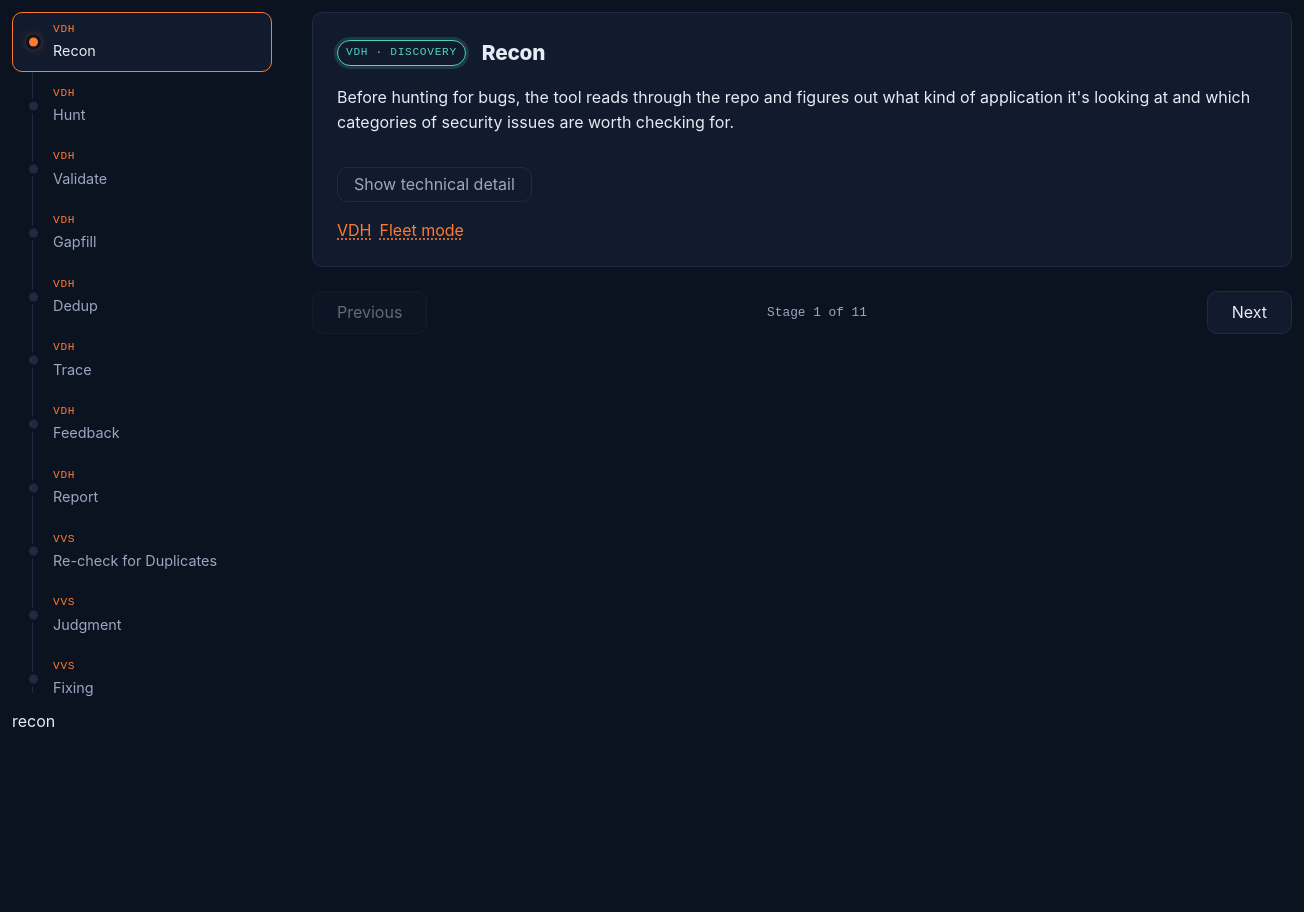
Walkthrough › keeps the ?stage= URL param in sync when navigating via Next
Check: the text with test id "location-probe" reads "recon", box [12,711,55,731]
Click the button "Next" at (1249, 313), box [1207,291,1292,334]
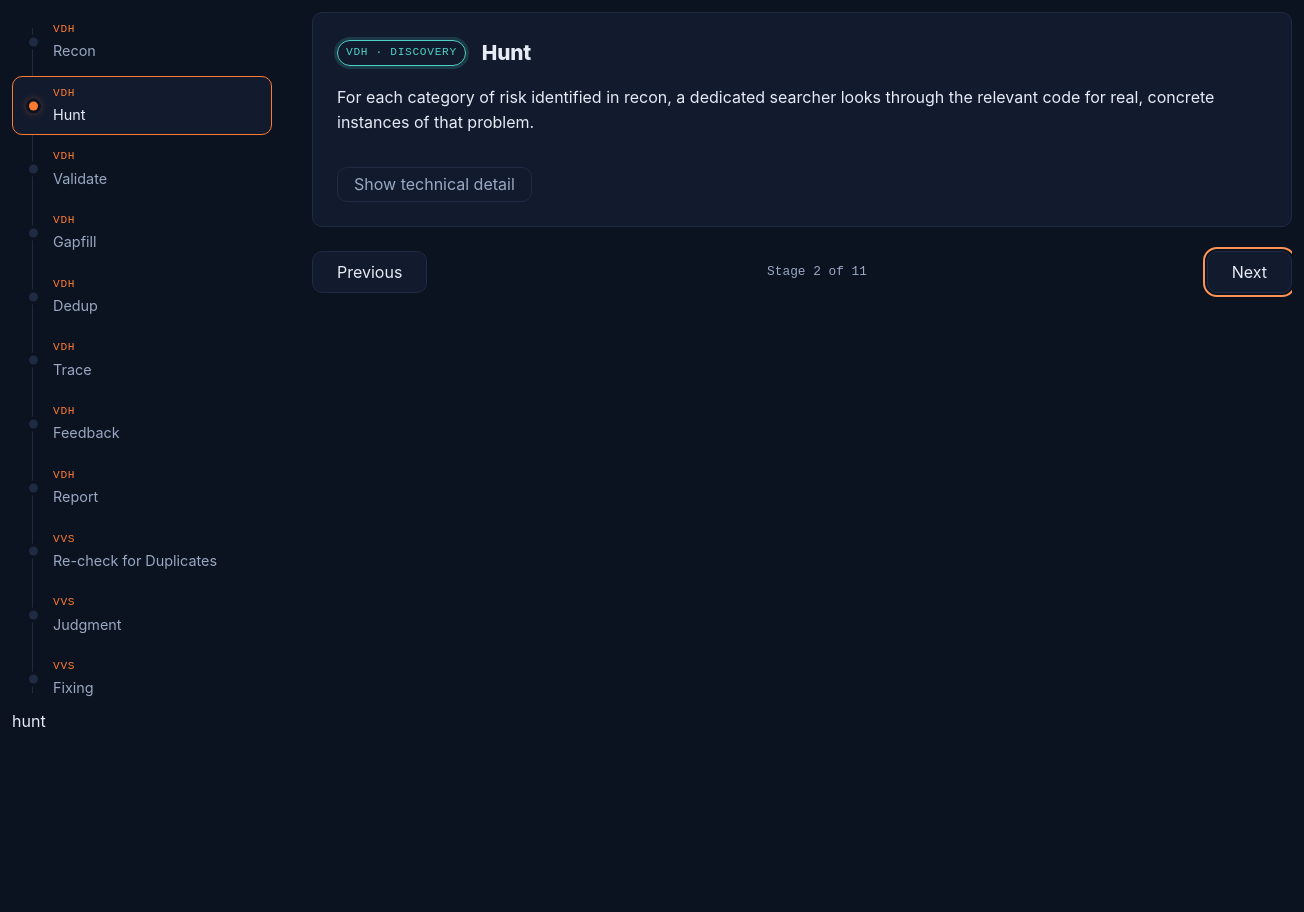
Check: the text with test id "location-probe" reads "hunt", box [12,711,46,731]
